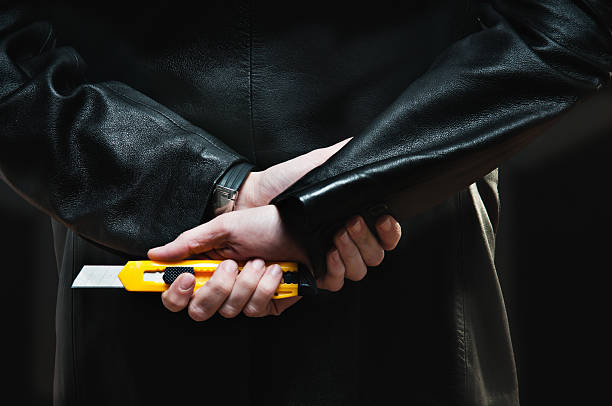knife: (70, 259, 316, 297)
